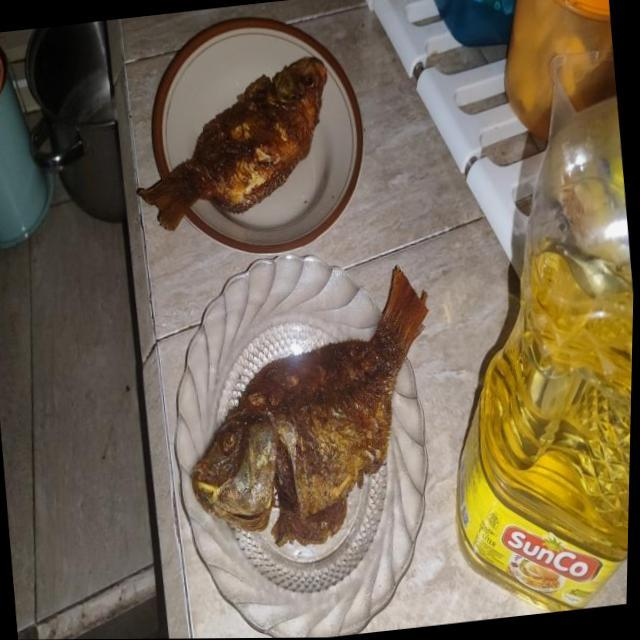ikan_mujair: (192, 266, 428, 546), (137, 56, 327, 230)
